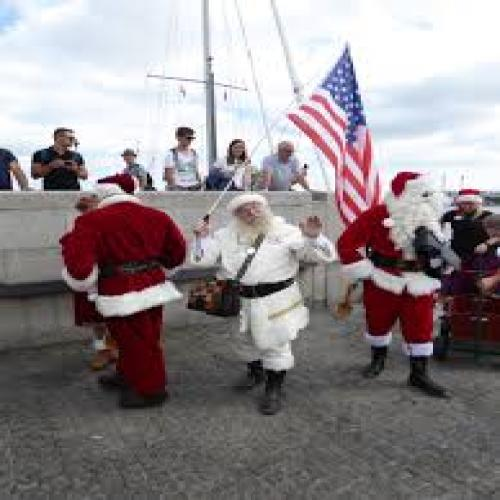Santa: (60, 174, 190, 412), (338, 171, 456, 399)
